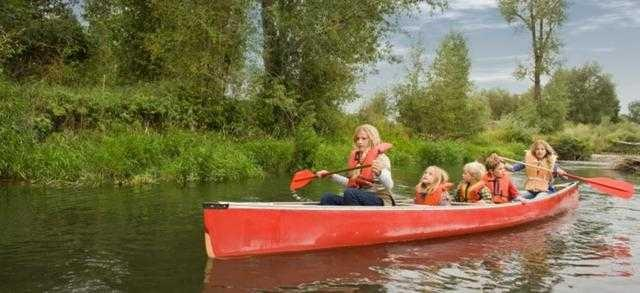kayak: (203, 185, 579, 259)
